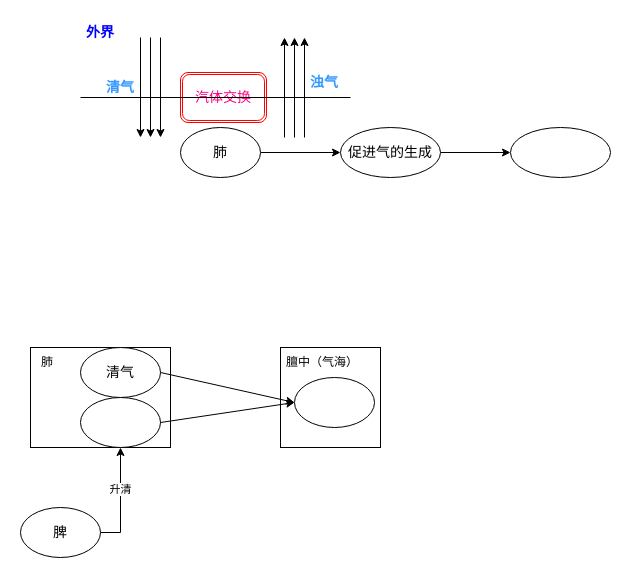
Some shapes in this 628 by 575 pixel diagram are drawn without their labels. Each missing label, with the centre of its shape:
宗气: point 334,402
新陈代谢正常: point 560,152
水谷之气: point 120,422
